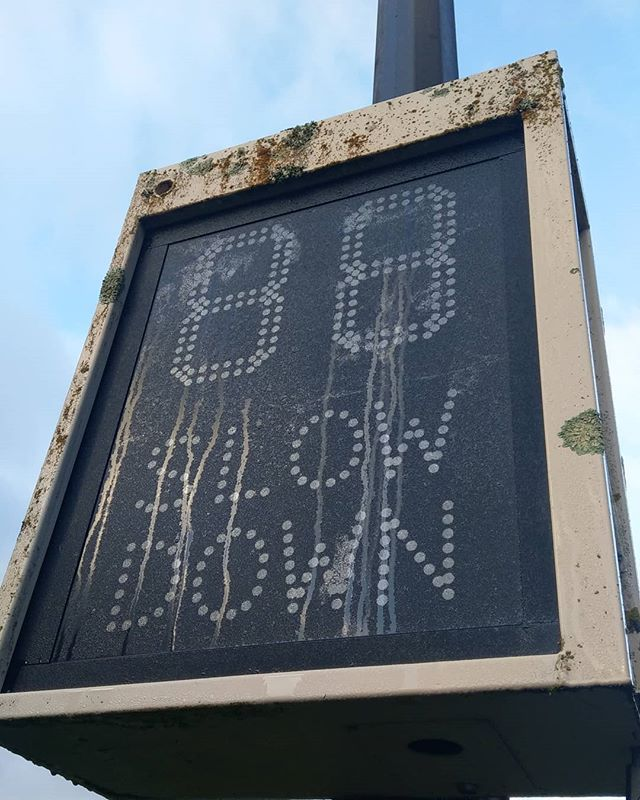sign: (1, 100, 606, 764)
